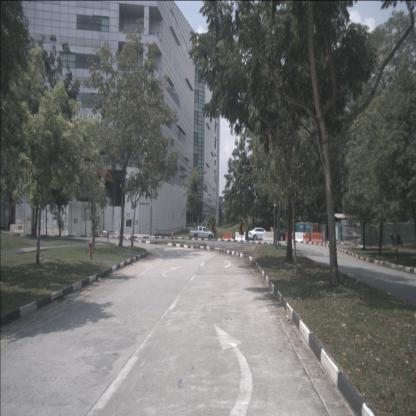barrier: (13, 224, 26, 235), (311, 232, 323, 242), (263, 231, 274, 241), (299, 232, 310, 242), (295, 231, 304, 242), (235, 231, 246, 240), (9, 223, 18, 233), (285, 232, 294, 242), (223, 232, 234, 240)
